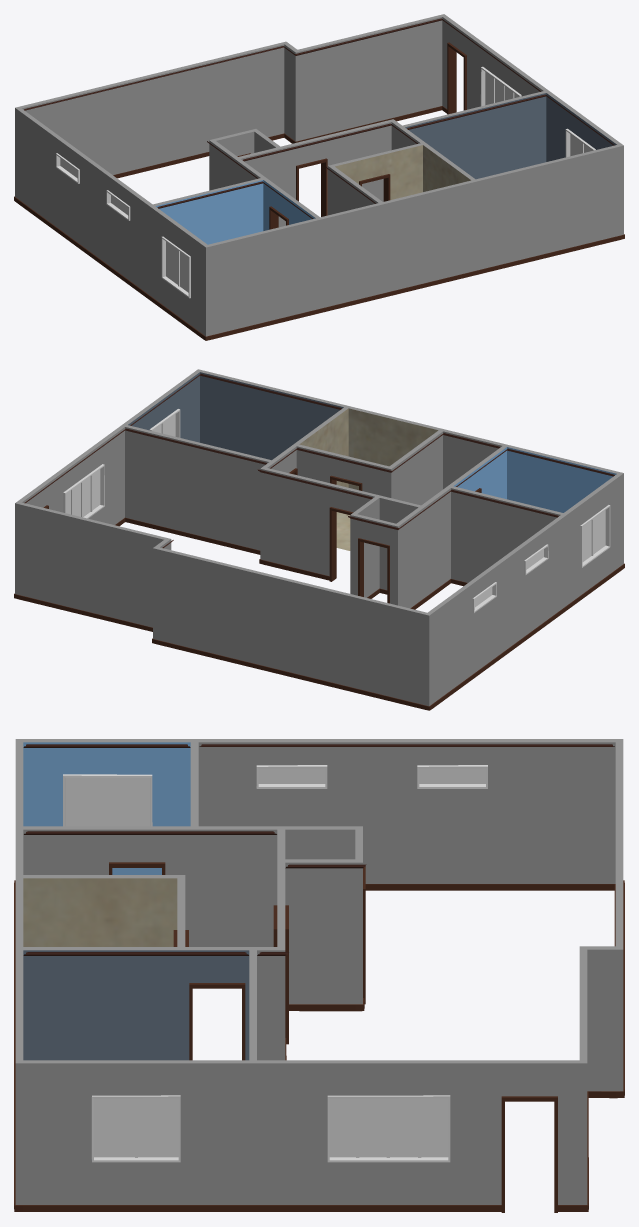
The model's file is ethics world.fbx.
3 renders of one model, top to bottom at view 1: azimuth 30°, elevation 25°; view 2: azimuth 150°, elevation 25°; view 3: azimuth 270°, elevation 25°, orthographic. The views are drawn at different scales.
Parts seen in each view (by area): view 1: wall; view 2: wall; view 3: wall.
Part boxes in pixels (x1,y1,x2,y2): wall: (14,14,624,340); wall: (14,369,624,710); wall: (14,739,624,1212).
Size of the model in its own units: 1136 by 239 by 896.
